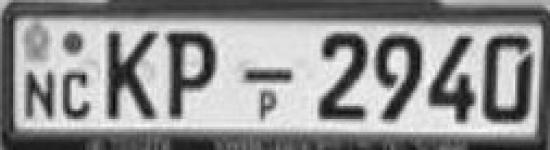-: (240, 55, 296, 89)
0: (480, 28, 537, 129)
4: (425, 27, 479, 128)
9: (373, 29, 427, 128)
C: (60, 69, 97, 122)
K: (100, 28, 162, 122)
N: (21, 67, 61, 123)
P: (161, 27, 230, 125)
S: (314, 30, 373, 125)
